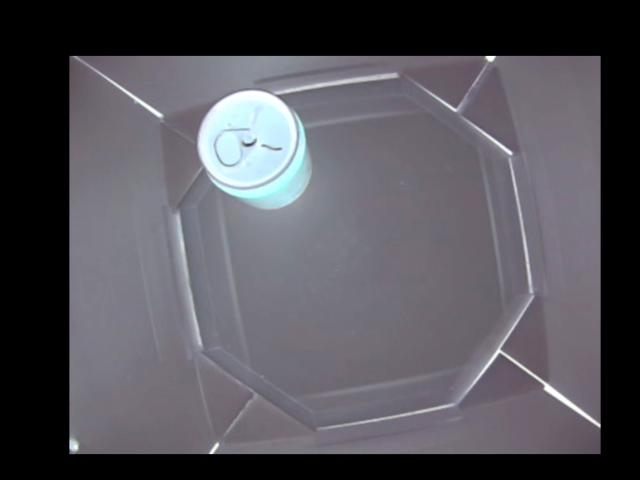Bottle: (197, 89, 314, 208)
